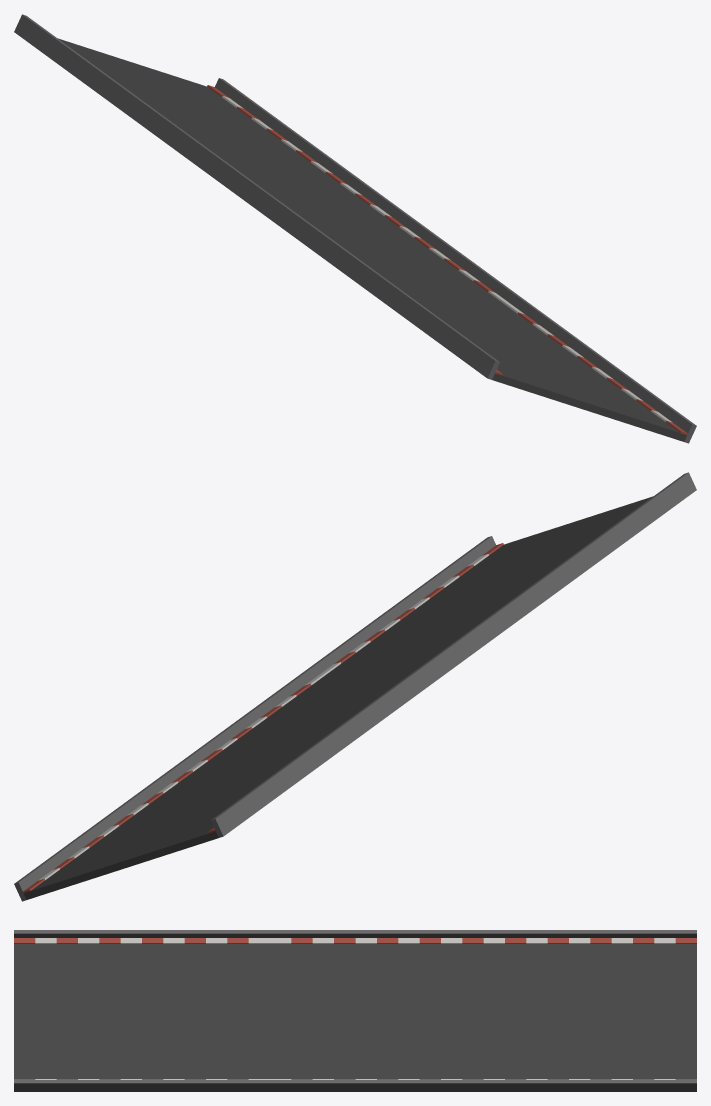
Rendered from tp-banked.glb.
The picture shows the model from 3 angles, top to bottom: view 1: azimuth 30°, elevation 25°; view 2: azimuth 150°, elevation 25°; view 3: azimuth 270°, elevation 25°; orthographic projection. The views are drawn at different scales.
Parts seen in each view (by area): view 1: tp-banked; view 2: tp-banked; view 3: tp-banked.
Part boxes in pixels (<box>): tp-banked: <box>14,14,696,443</box>; tp-banked: <box>14,472,696,901</box>; tp-banked: <box>14,930,696,1091</box>.
Size of what is drawn, in the model's own units: 15.95 by 9.45 by 62.42.
Materials: 1 (1 with a texture image).
